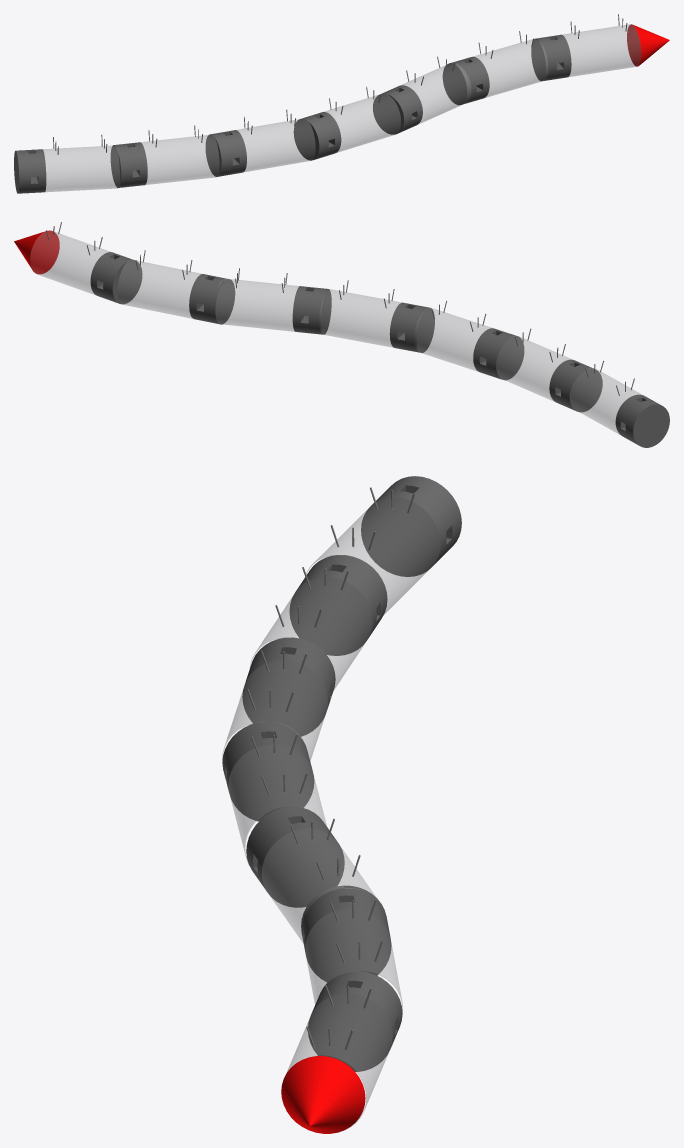
File: jiantou.gltf
The picture shows the model from 3 angles, top to bottom: view 1: azimuth 30°, elevation 25°; view 2: azimuth 150°, elevation 25°; view 3: azimuth 270°, elevation 25°; orthographic projection. The views are drawn at different scales.
Parts seen in each view (by area): view 1: polySurface9, polySurface5, polySurface10, polySurface11, polySurface8, polySurface6, polySurface7, polySurface4; view 2: polySurface6, polySurface8, polySurface7, polySurface5, polySurface9, polySurface10, polySurface11, polySurface4; view 3: polySurface11, polySurface7, polySurface10, polySurface5, polySurface8, polySurface9, polySurface6, polySurface4.
Part boxes in pixels (x1,y1,x2,y2): polySurface9: (205,119,315,176); polySurface5: (531,24,640,81); polySurface10: (110,135,219,187); polySurface11: (14,146,119,193); polySurface8: (293,94,400,160); polySurface6: (442,39,548,105); polySurface7: (373,63,471,134); polySurface4: (627,24,669,66); polySurface6: (118,260,235,324); polySurface8: (319,289,434,352); polySurface7: (216,279,331,334); polySurface5: (30,231,142,304); polySurface9: (414,308,524,380); polySurface10: (497,336,602,412); polySurface11: (570,368,669,447); polySurface4: (14,230,59,274); polySurface11: (306,476,461,614); polySurface7: (246,806,375,943); polySurface10: (250,555,387,689); polySurface5: (287,971,402,1129); polySurface8: (222,721,326,861); polySurface9: (222,637,335,760); polySurface6: (301,885,402,1011); polySurface4: (281,1056,365,1133).
Size of the model in its own units: 0.1451 by 0.0105 by 0.0238.
